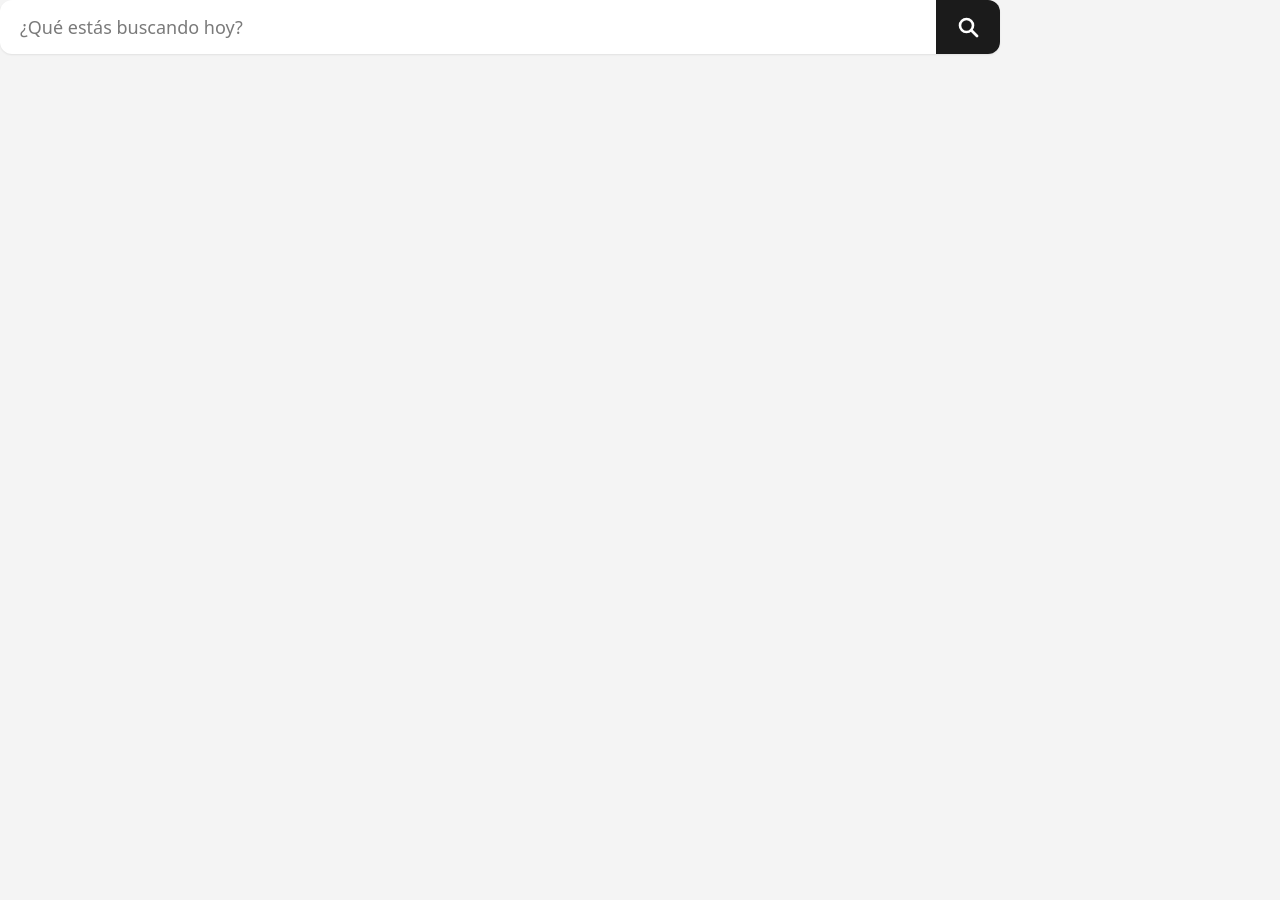
Test: SearchBox › una búsqueda relacionada llena el input y busca de inmediato sin cerrar el desplegable
Type "shirt" into the search field named "Buscar productos" at (468, 27), box [0,0,936,54]
Then press Enter
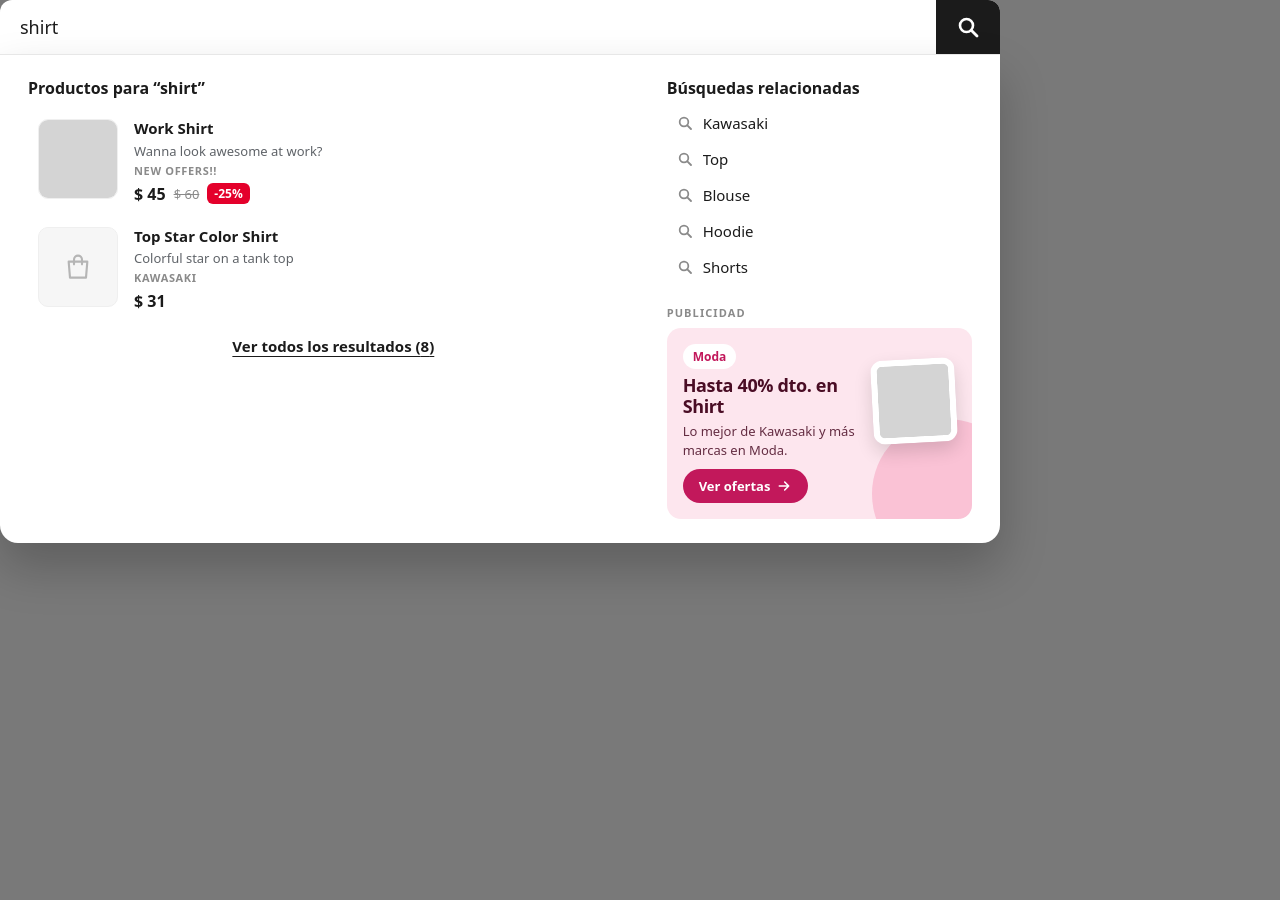
Click the button "top" at (685, 159), box [667,141,972,177]
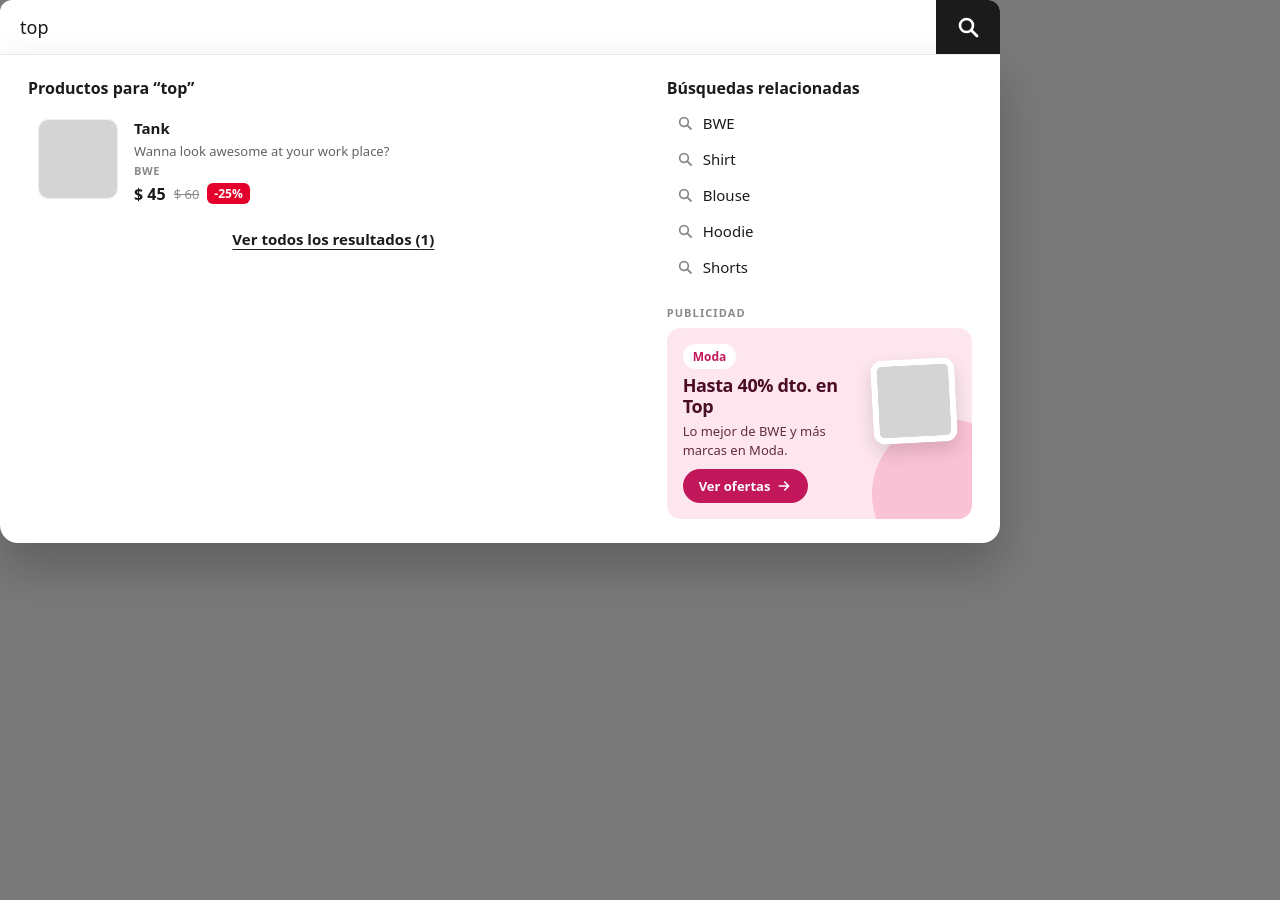
Result: the text "Tank" is shown at [134,118,170,138]
Result: the element named "Resultados de búsqueda" is shown at [0,54,1000,543]
Result: the search field named "Buscar productos" holds "top" at [0,0,936,54]
